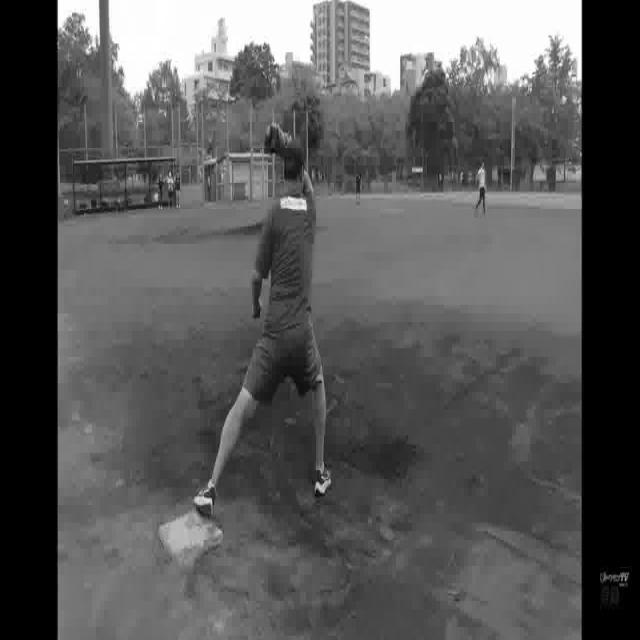base: (159, 508, 226, 566)
baseball_glove: (263, 124, 293, 155)
shoe: (192, 478, 222, 522), (314, 464, 333, 501)
